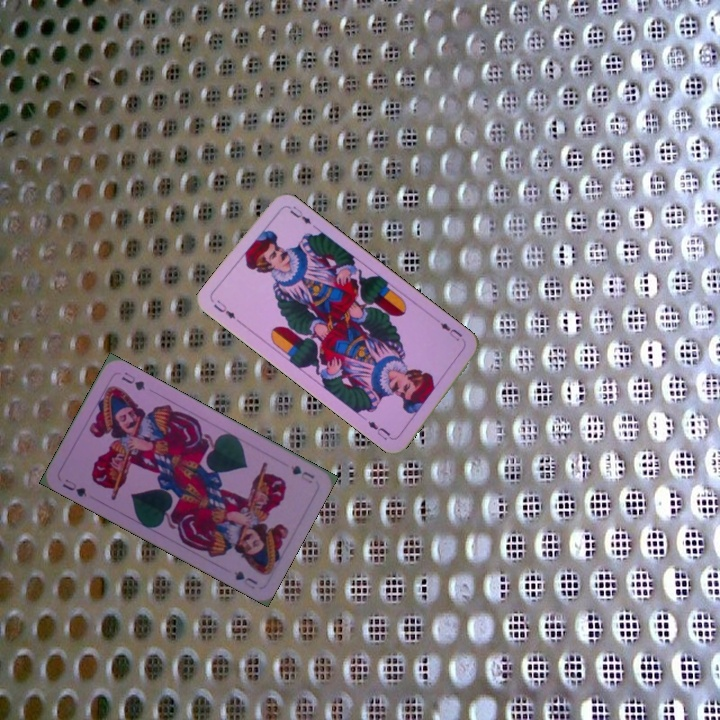EU: (209, 296, 238, 322), (436, 318, 465, 343)
GU: (58, 475, 89, 500), (286, 461, 317, 486)
